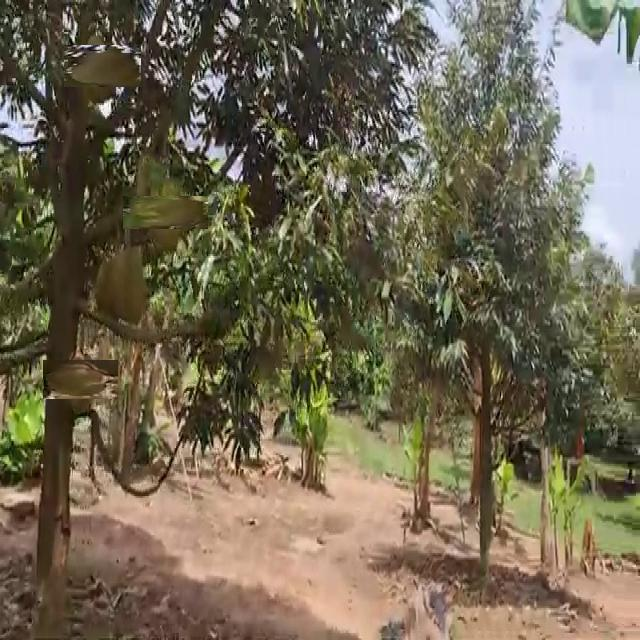durian: (106, 236, 150, 328), (73, 36, 133, 96), (136, 184, 195, 242), (52, 351, 108, 408)
